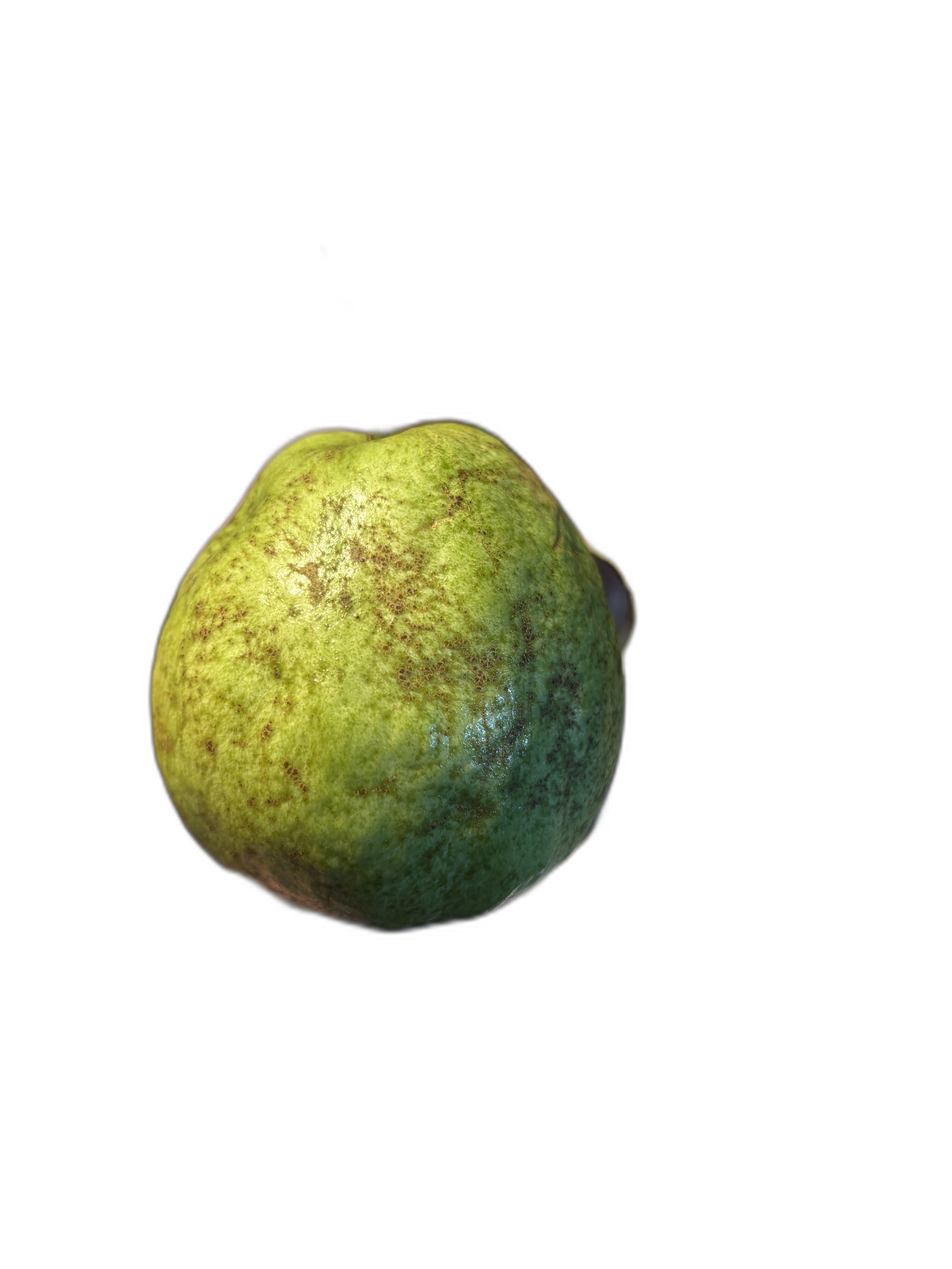guava: (173, 87, 788, 1192)
